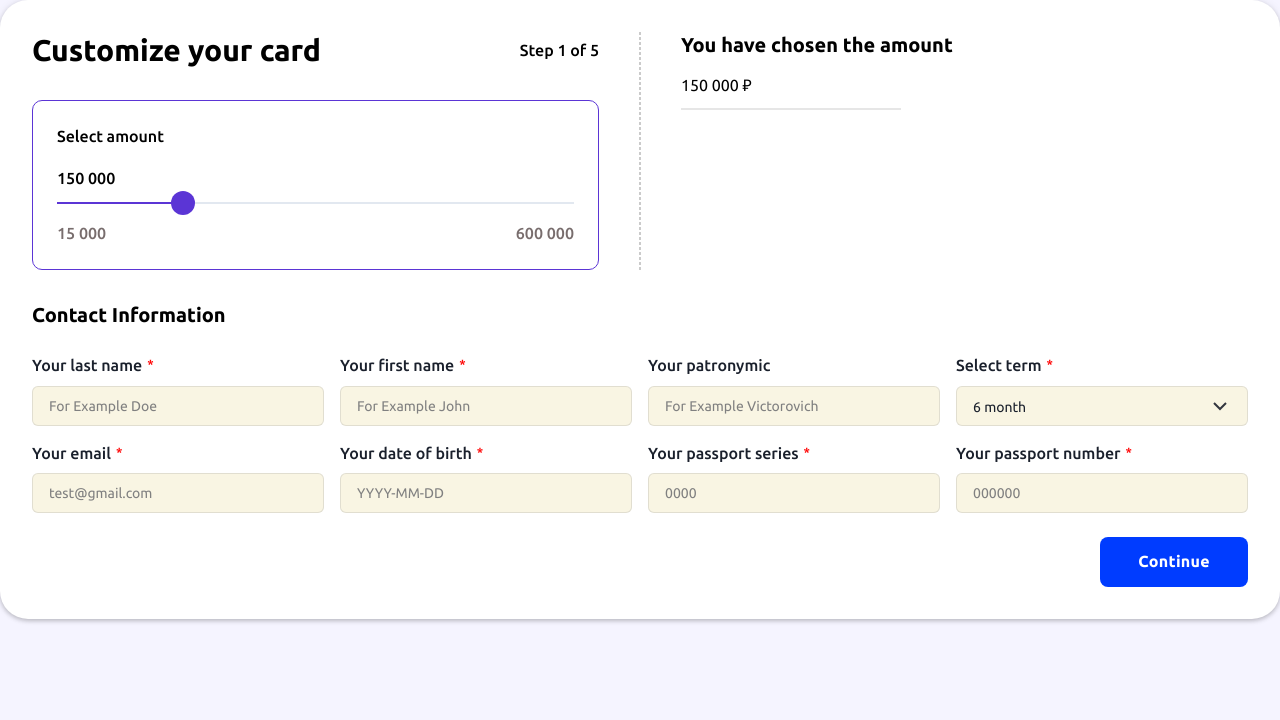
Test: Error message
Click the button "Continue". click: (1174, 562)
box: [1100,537,1248,587]
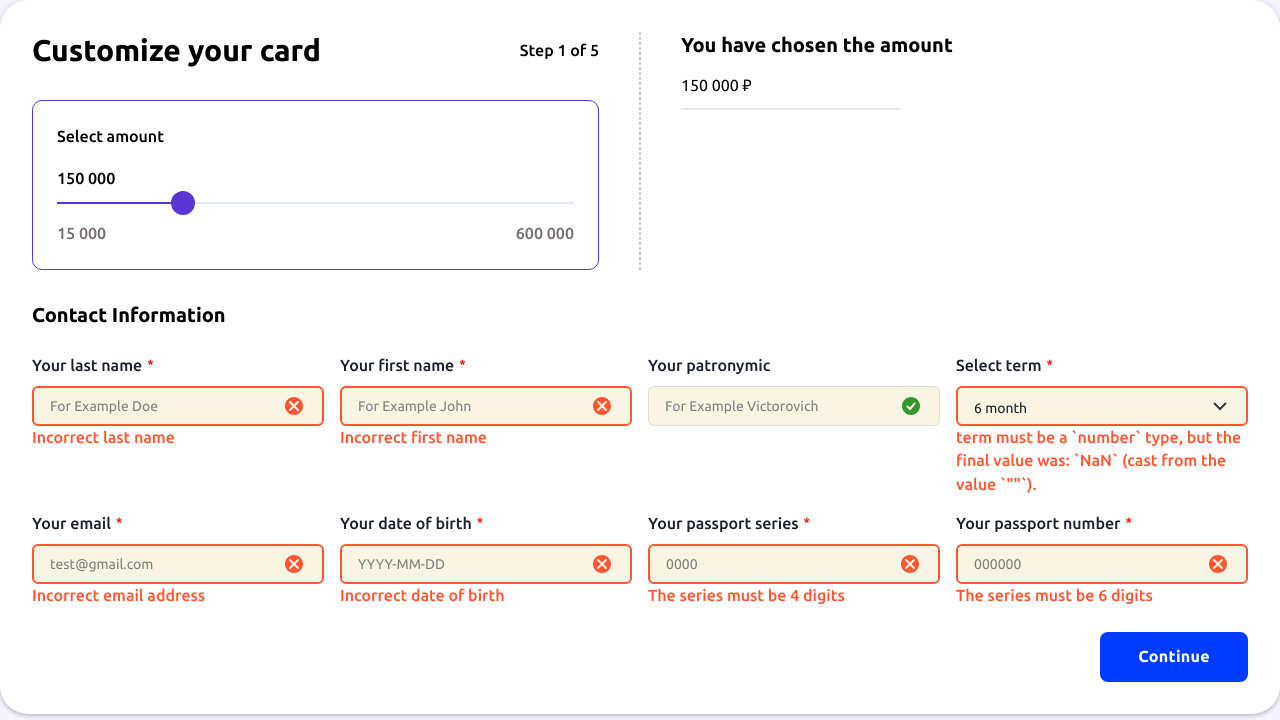
expect the text "Incorrect last name" is shown: met, box [32,427,175,447]
